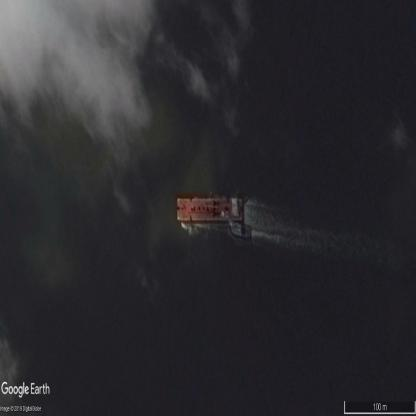ship: (176, 194, 244, 223), (228, 224, 251, 239)
